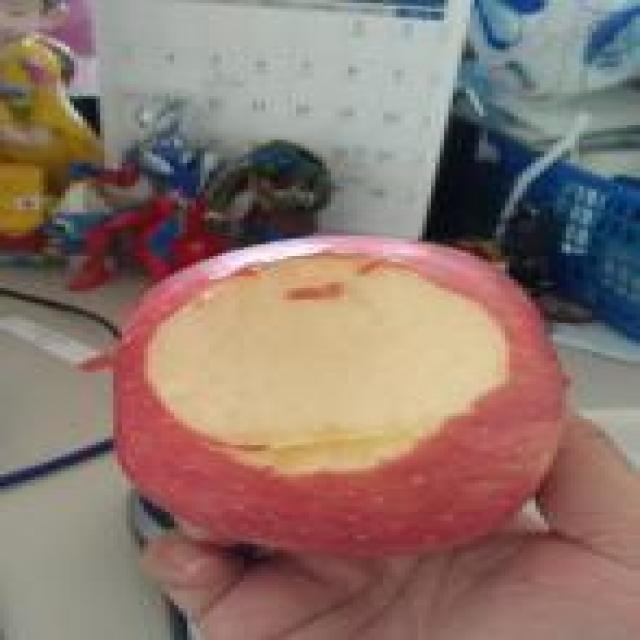Rotten: (104, 233, 568, 559)
